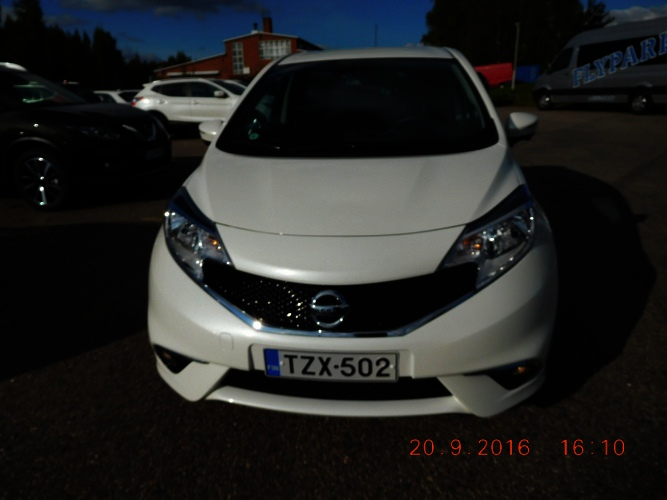license: (262, 343, 400, 387)
